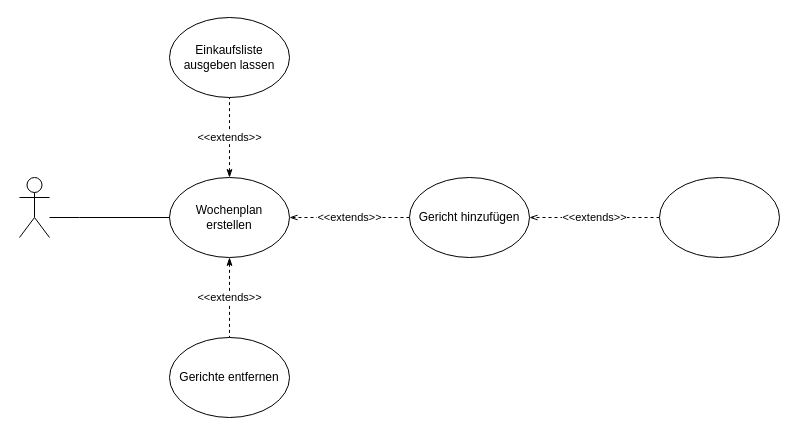
Some shapes in this 797 by 435 pixel diagram are drawn without their labels. Here are the shapes that lost their labels. From the top down, the box of each, then its label:
(18, 176, 50, 238): Nutzer
(658, 176, 780, 258): Beilage hinzufügen
